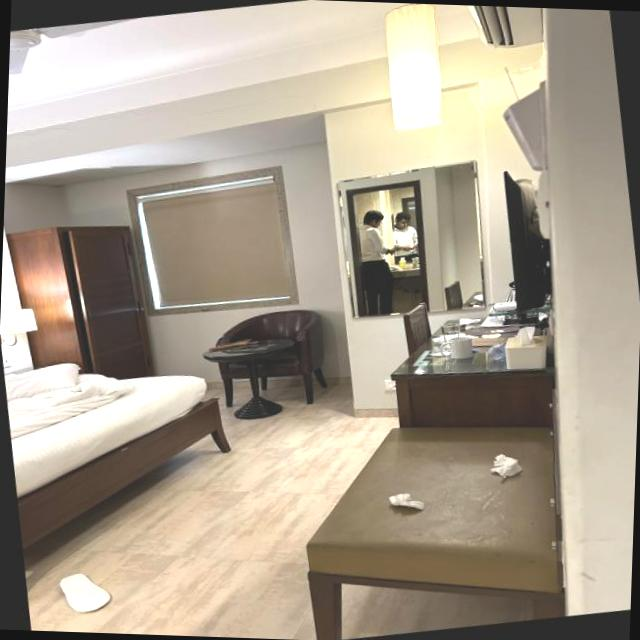chair: (205, 308, 334, 422)
lamp: (0, 310, 40, 350)
mess: (11, 375, 116, 410), (51, 568, 112, 621), (484, 451, 522, 488), (387, 486, 425, 520)
messy_bed: (0, 367, 231, 550)
